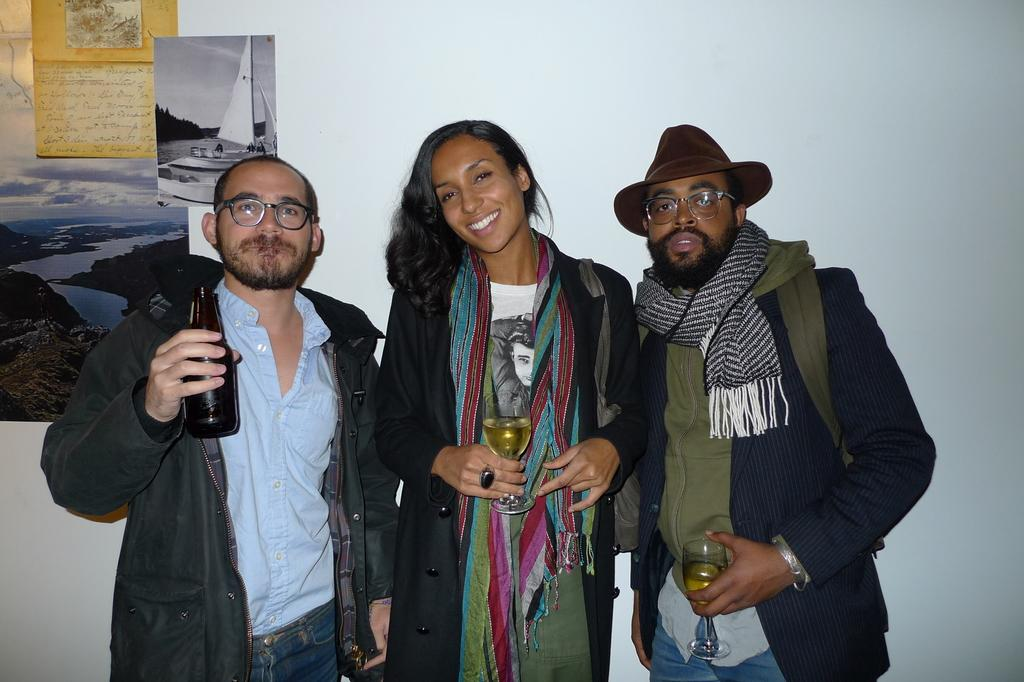Hat: (612, 124, 770, 236)
